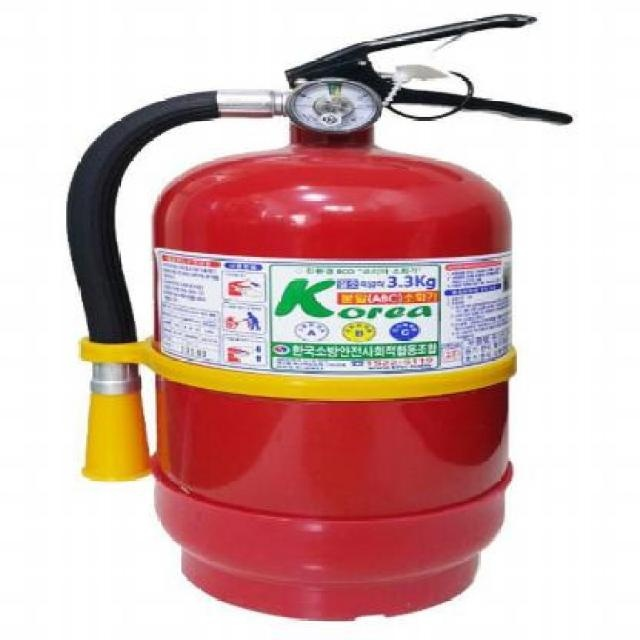fire extinguisher: (63, 14, 574, 621)
